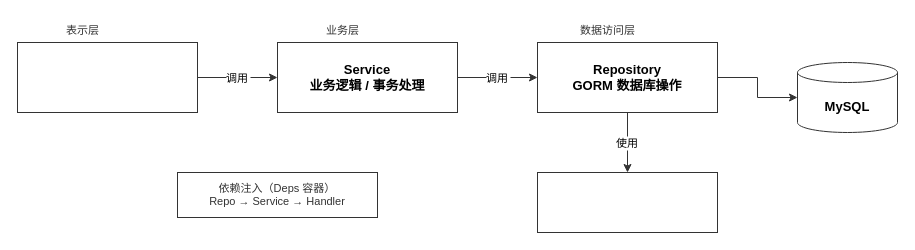
Some shapes in this 915 by 250 pixel diagram are drawn without their labels. The box of each missing label's shape, as (x1, y1, x2, y2) in pixels:
Handler 参数校验 / 响应格式化: (16, 42, 198, 112)
Model GORM Gen 自动生成: (536, 172, 718, 232)
